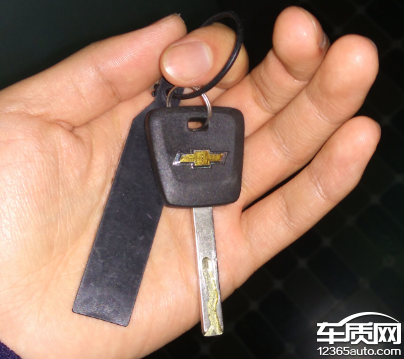key: (144, 97, 254, 343)
